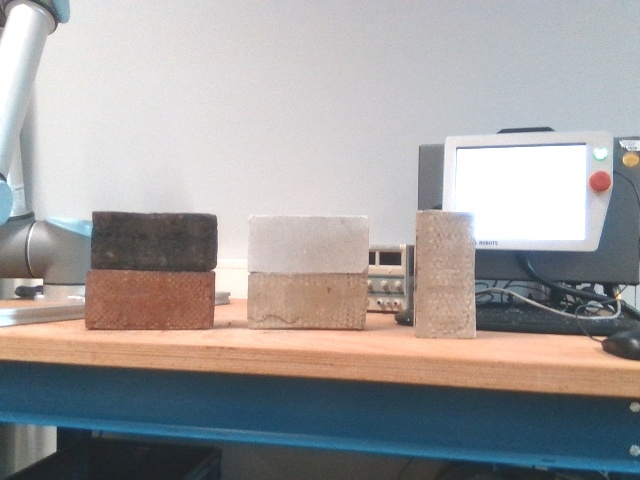brick: (418, 212, 471, 336), (89, 272, 208, 327), (96, 213, 212, 268), (253, 220, 364, 269), (251, 279, 361, 323)
